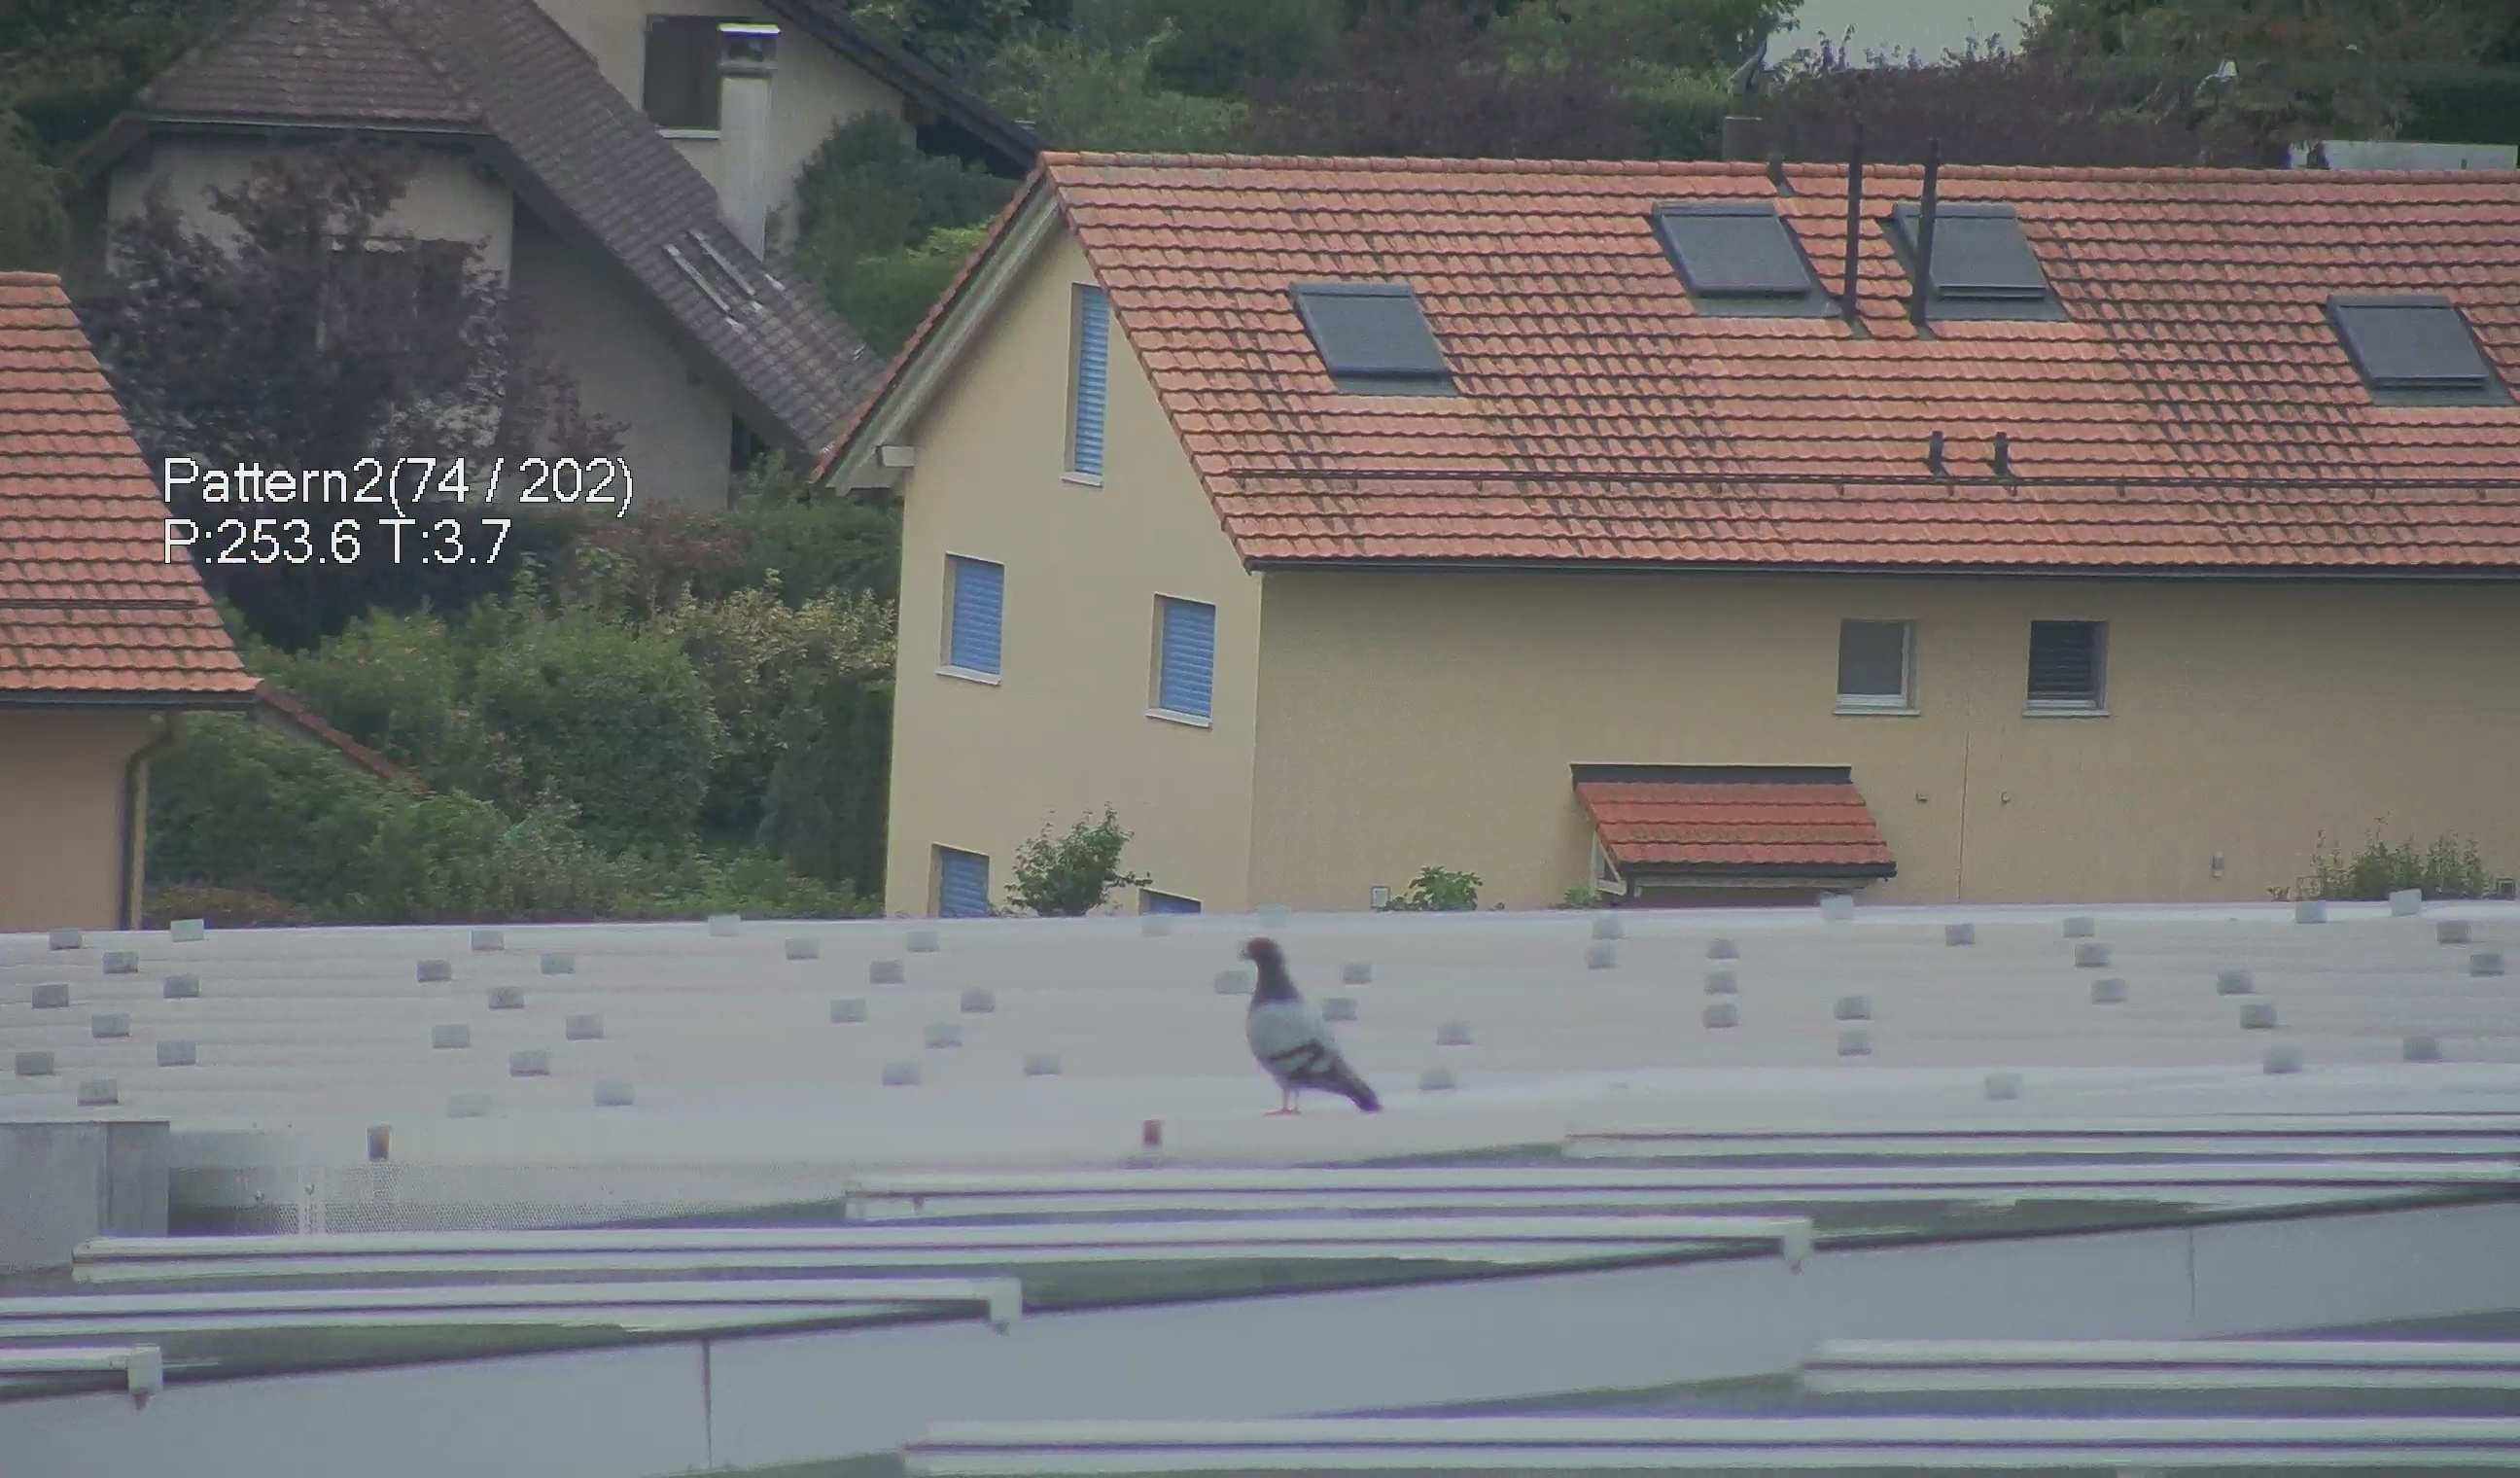Pigeon: (1220, 931, 1386, 1131)
